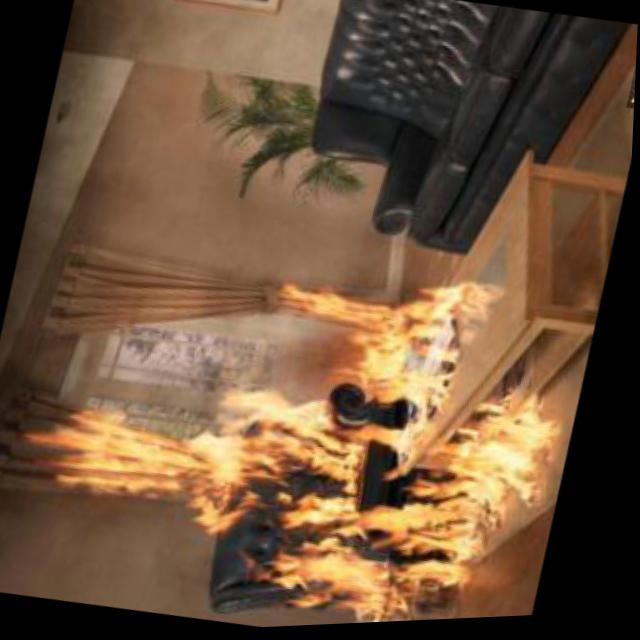Fire: (175, 236, 599, 633), (7, 377, 212, 525)
